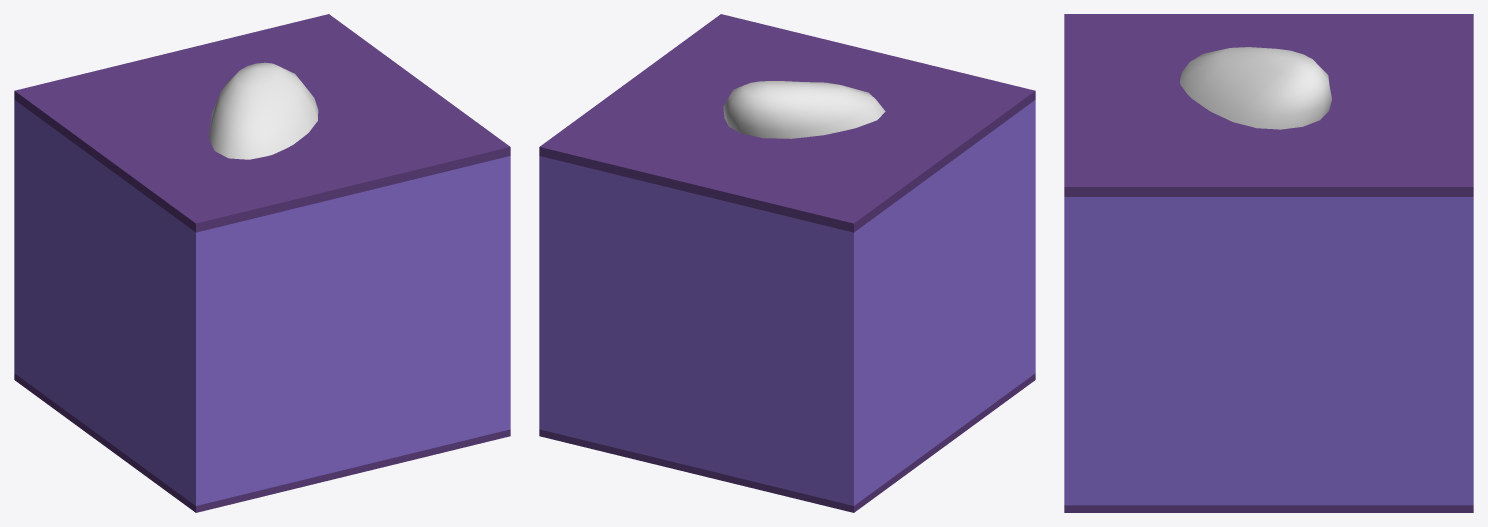
Rendered from cake_purple_1.fbx.
3 views of the same model, side by side, from view 1: azimuth 30°, elevation 25°; view 2: azimuth 150°, elevation 25°; view 3: azimuth 270°, elevation 25° (orthographic). The views are drawn at different scales.
Visible parts, largest first — view 1: 立方体.032, 立方体.038; view 2: 立方体.032, 立方体.038; view 3: 立方体.032, 立方体.038.
Part boxes in pixels (<box>): 立方体.032: <box>14,14,510,512</box>; 立方体.038: <box>209,62,318,159</box>; 立方体.032: <box>539,14,1035,512</box>; 立方体.038: <box>723,81,885,138</box>; 立方体.032: <box>1064,14,1473,512</box>; 立方体.038: <box>1180,47,1331,129</box>.
Size of the model in its own units: 14.6 by 14.6 by 14.6.
